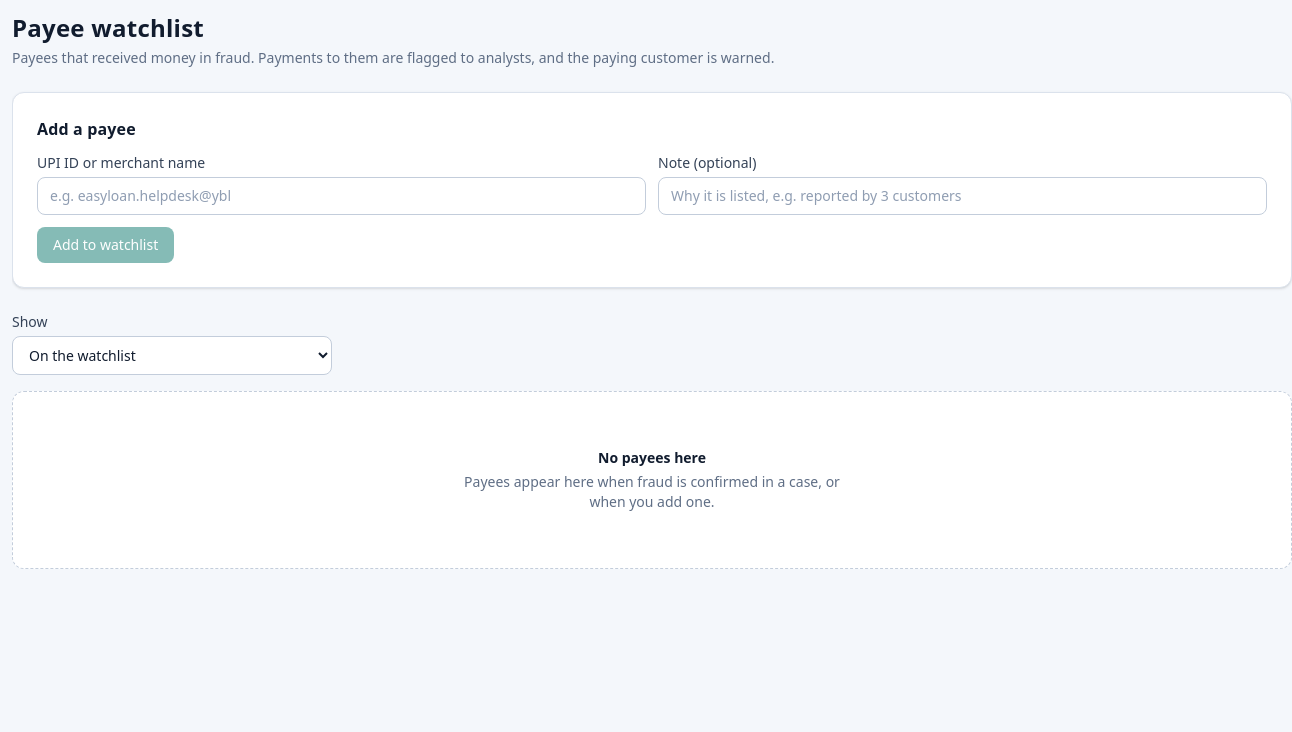
Test: PayeeWatchlist › a server error on add is shown in the form
The image size is (1292, 732).
Expected: the text "No payees here" is shown, x1=598 y1=448 x2=706 y2=468
Type "Lucky Prize Desk" into the field labelled "UPI ID or merchant name" at (342, 196), box x1=37 y1=177 x2=646 y2=215
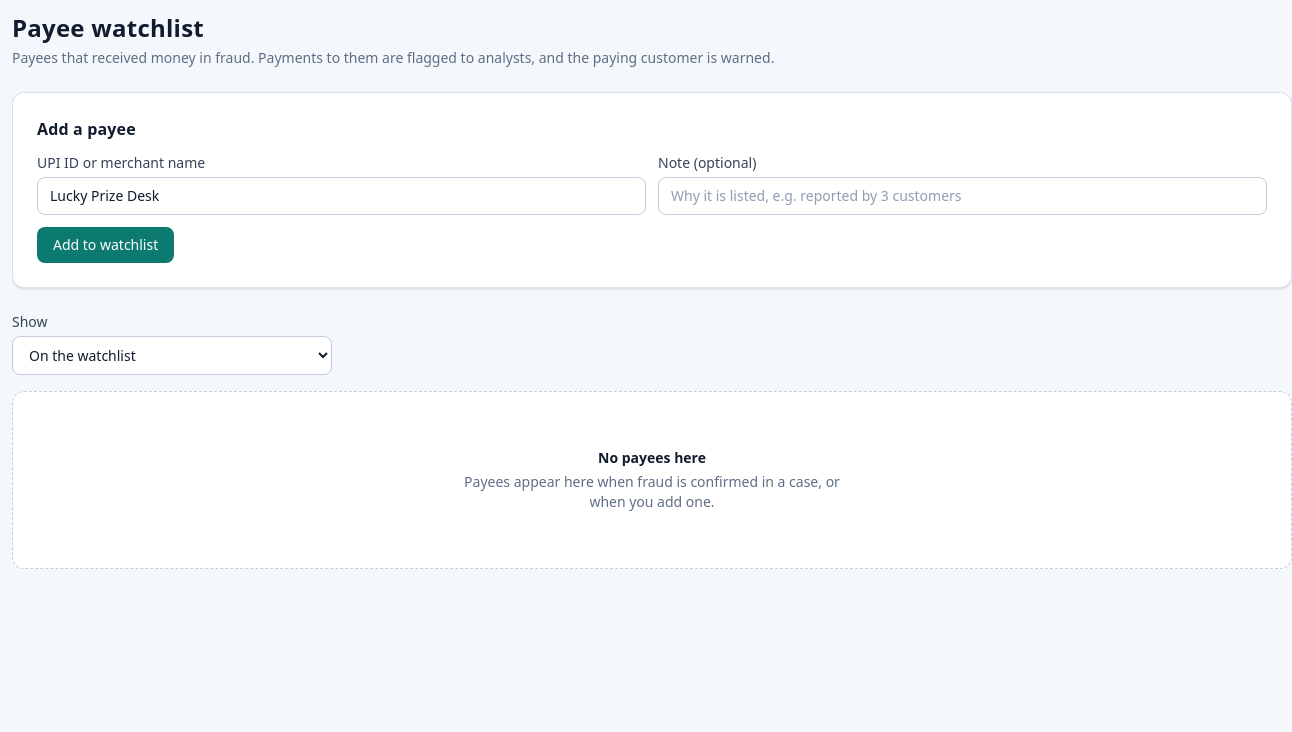
Click the button "Add to watchlist" at (106, 245), box x1=37 y1=227 x2=174 y2=263
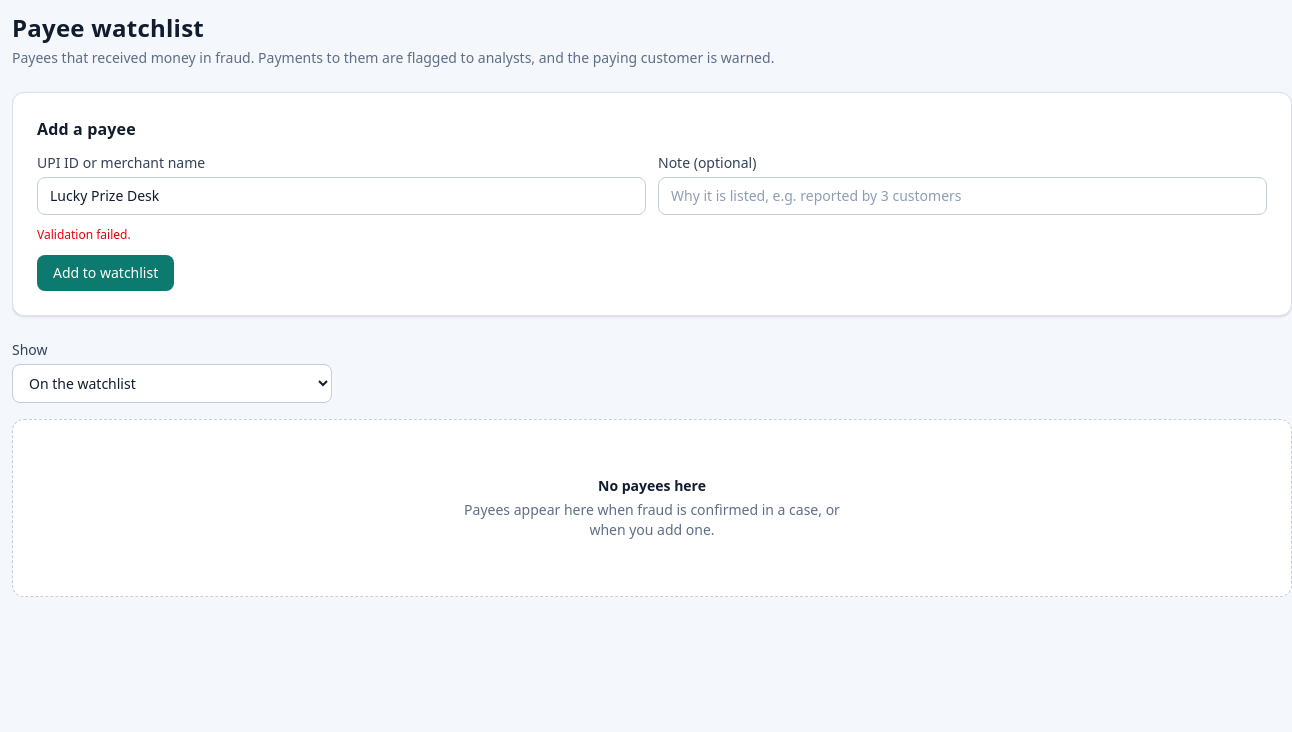
Expected: the message "Validation failed." is shown, x1=37 y1=226 x2=131 y2=243
